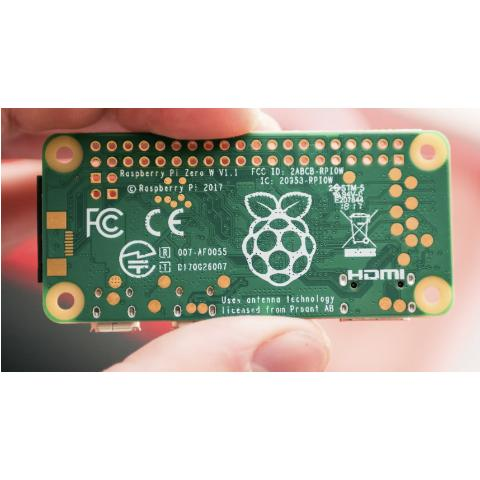Raspberry-Pi-Zero-W: (34, 130, 454, 332)
